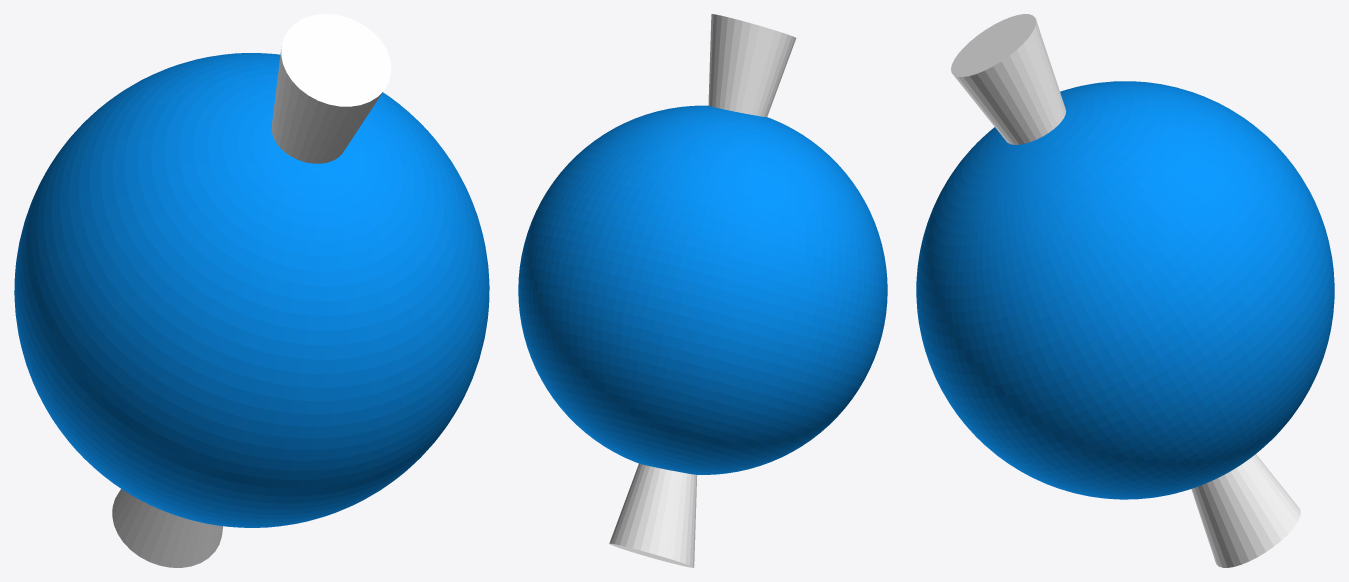
Rendered from Pulsar Passive.obj.
3 views of the same model, side by side, from view 1: azimuth 30°, elevation 25°; view 2: azimuth 150°, elevation 25°; view 3: azimuth 270°, elevation 25° (orthographic). The views are drawn at different scales.
Visible parts, largest first — view 1: Sphere.001; view 2: Sphere.001; view 3: Sphere.001.
Boxes of the visible parts, <box> form: Sphere.001: <box>14,14,489,567</box>; Sphere.001: <box>518,14,887,567</box>; Sphere.001: <box>916,14,1334,567</box>.
Size of the model in its own units: 1 by 1.44 by 0.9998.
2 materials, 2 textured.
